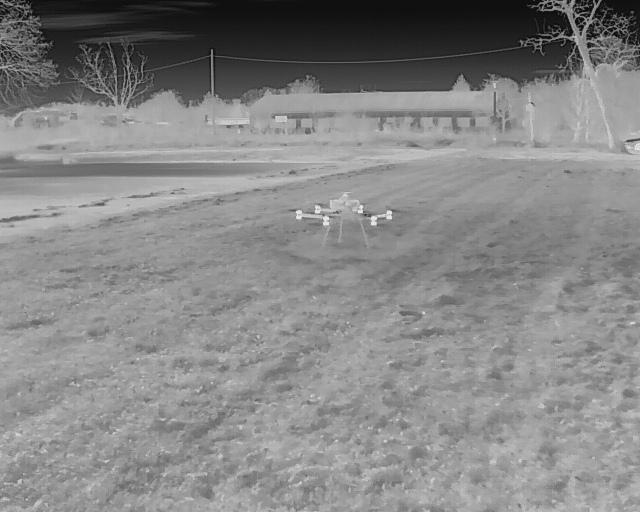drone: (291, 188, 399, 255)
